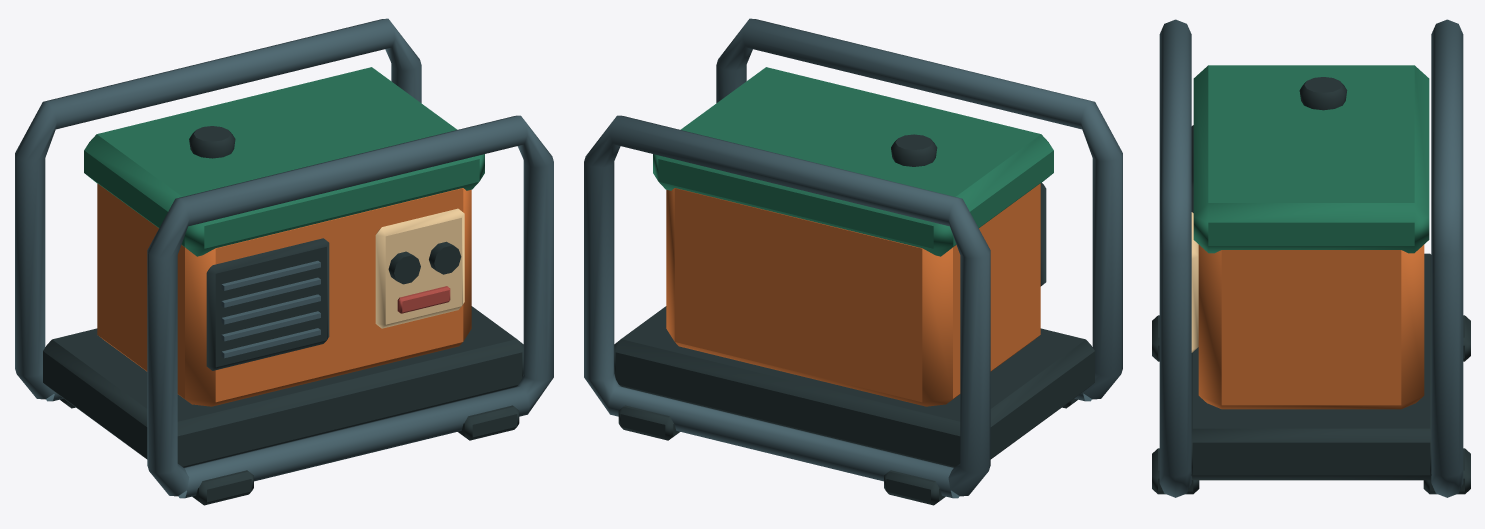
File: generator.glb
3 views of the same model, side by side, from view 1: azimuth 30°, elevation 25°; view 2: azimuth 150°, elevation 25°; view 3: azimuth 270°, elevation 25° (orthographic). The views are drawn at different scales.
Parts seen in each view (by area): view 1: Generator; view 2: Generator; view 3: Generator.
Part boxes in pixels (x1=…): Generator: x1=15, y1=18, x2=553, y2=505; Generator: x1=584, y1=18, x2=1122, y2=505; Generator: x1=1152, y1=19, x2=1470, y2=497.
Bounding box in the file's own units: 0.8018 × 0.5779 × 0.535.
